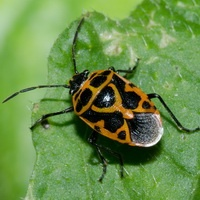insect: (25, 98, 199, 199), (76, 16, 199, 127), (49, 25, 75, 82), (33, 88, 70, 120)
